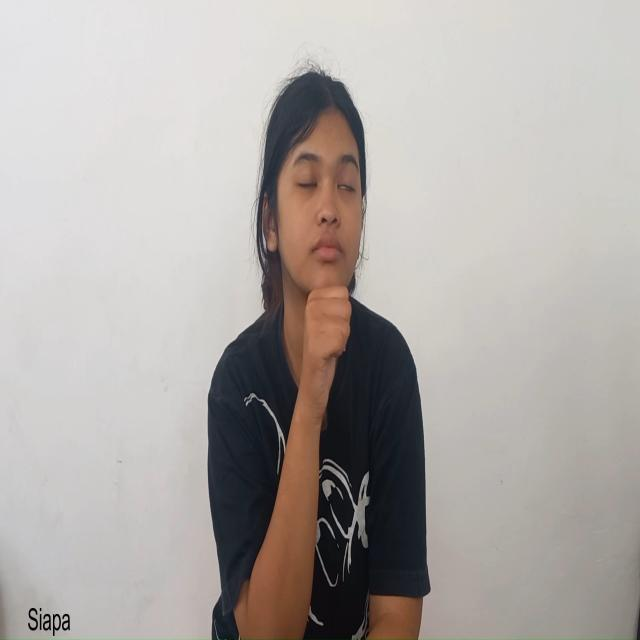Siapa -BISINDO-: (252, 60, 373, 439)
